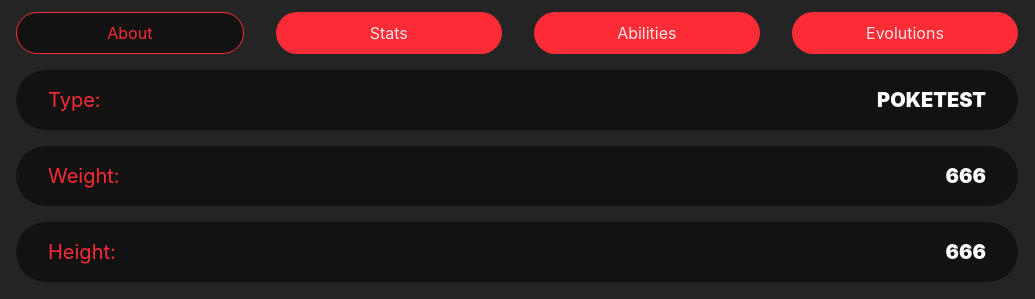
Scenario: Should show evolutions content when click on evolutions
Click the button "Evolutions".
click(905, 33)  # box [792,12,1018,54]
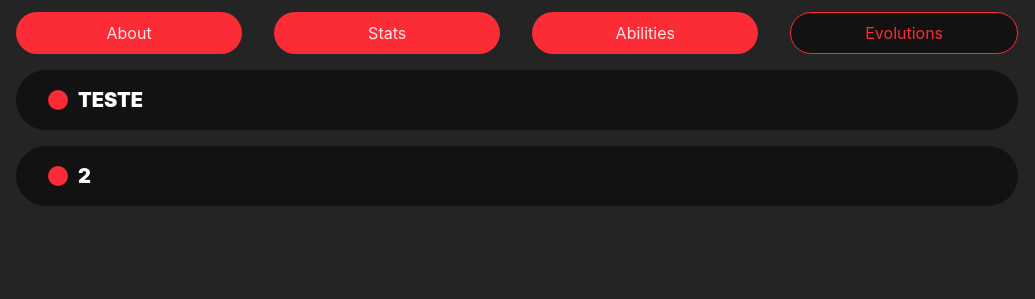
Expected: the text "teste" is shown, [48,86,143,114]
